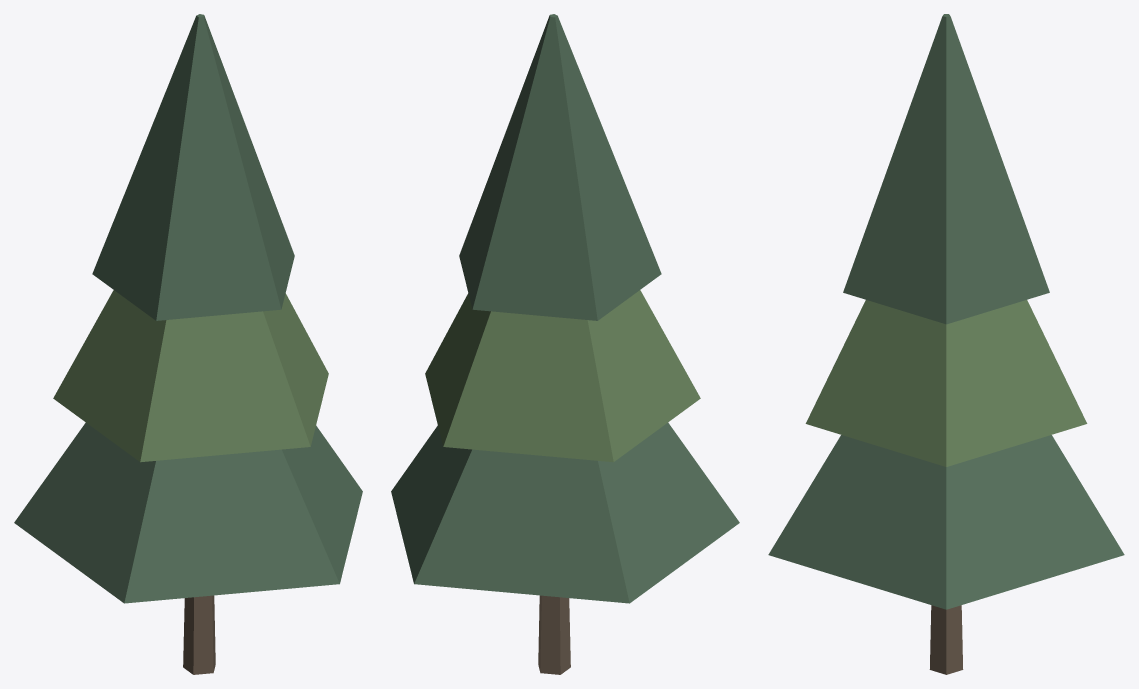
File: sunland_redwood.glb
The picture shows the model from 3 angles, left to right: view 1: azimuth 30°, elevation 25°; view 2: azimuth 150°, elevation 25°; view 3: azimuth 270°, elevation 25°; orthographic projection.
Parts seen in each view (by area): view 1: sunland_redwood_leaf_dark, sunland_redwood_leaf_mid, sunland_redwood_bark; view 2: sunland_redwood_leaf_dark, sunland_redwood_leaf_mid, sunland_redwood_bark; view 3: sunland_redwood_leaf_dark, sunland_redwood_leaf_mid, sunland_redwood_bark.
Boxes of the visible parts, left/top/right/bottom form: sunland_redwood_leaf_dark: left=14, top=14, right=362, bottom=603; sunland_redwood_leaf_mid: left=53, top=290, right=328, bottom=462; sunland_redwood_bark: left=183, top=595, right=215, bottom=674; sunland_redwood_leaf_dark: left=391, top=14, right=739, bottom=603; sunland_redwood_leaf_mid: left=425, top=290, right=700, bottom=462; sunland_redwood_bark: left=538, top=595, right=570, bottom=674; sunland_redwood_leaf_dark: left=768, top=14, right=1124, bottom=609; sunland_redwood_leaf_mid: left=805, top=300, right=1087, bottom=466; sunland_redwood_bark: left=929, top=605, right=963, bottom=674.
Size of the model in its own units: 3.65 by 7.73 by 3.83.
